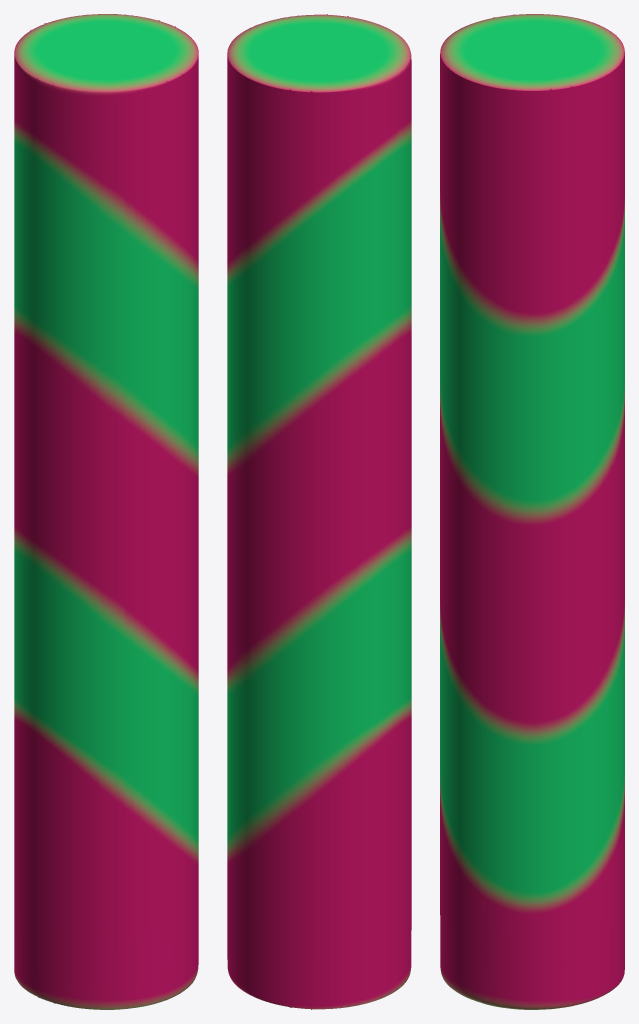
File: GEO_Stock_08.glb
The picture shows the model from 3 angles, left to right: view 1: azimuth 30°, elevation 25°; view 2: azimuth 150°, elevation 25°; view 3: azimuth 270°, elevation 25°; orthographic projection.
Parts seen in each view (by area): view 1: Cylinder; view 2: Cylinder; view 3: Cylinder.
Part boxes in pixels (x1,y1,x2,y2): Cylinder: (14, 14, 198, 1009); Cylinder: (227, 14, 411, 1009); Cylinder: (440, 14, 624, 1009).
Bounding box in the file's own units: 0.9999 × 5.52 × 0.9999.
